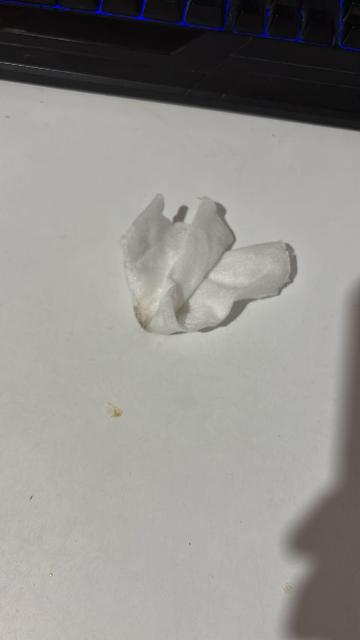Kagit: (114, 188, 295, 341)
